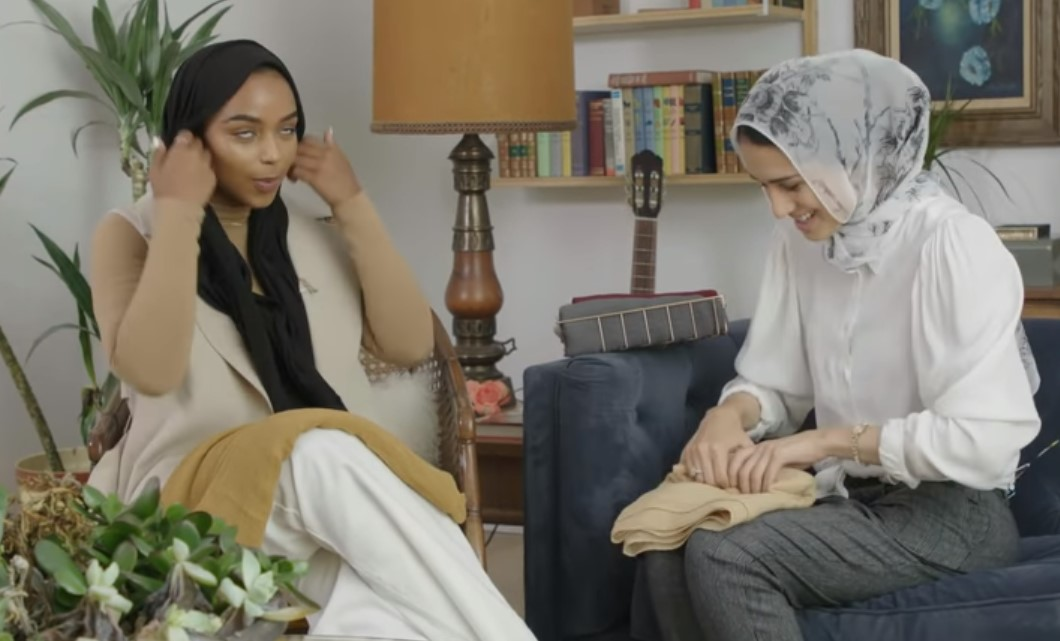face_no_mask: (187, 54, 309, 220), (732, 97, 861, 252)
